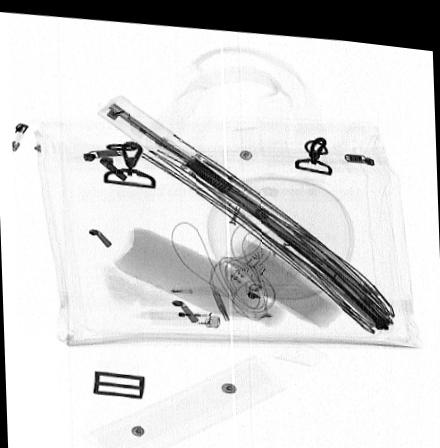Lighter: (147, 306, 220, 323)
